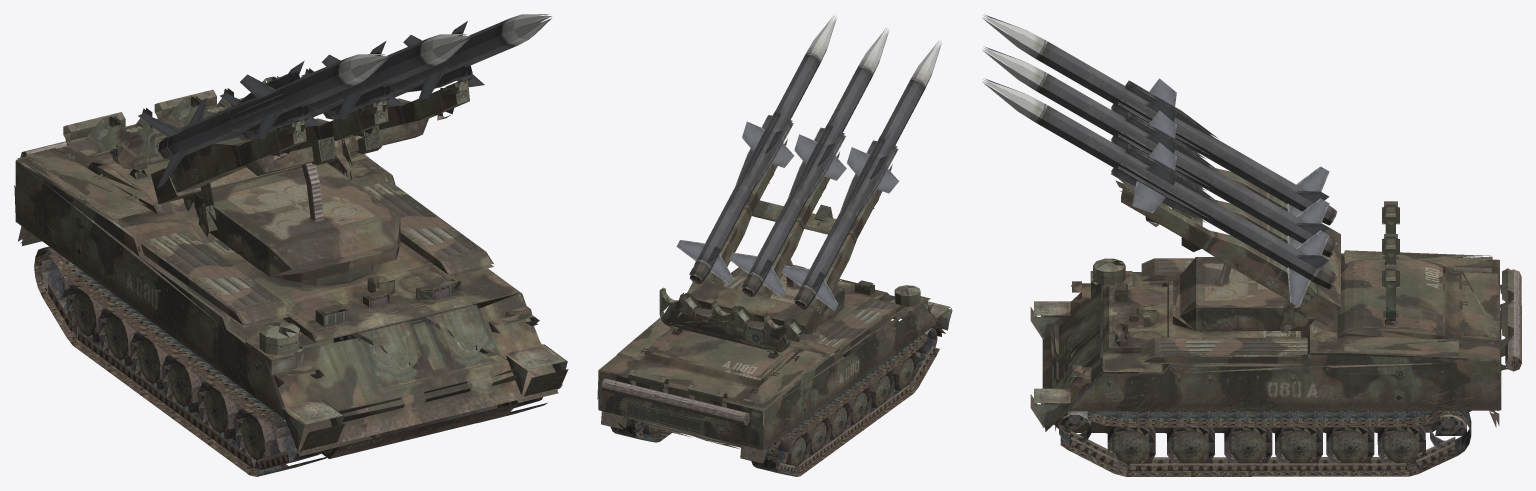
Rendered from missiletank_lod1_original.glb.
3 renders of one model, left to right at view 1: azimuth 30°, elevation 25°; view 2: azimuth 150°, elevation 25°; view 3: azimuth 270°, elevation 25°, orthographic. The views are drawn at different scales.
Parts seen in each view (by area): view 1: Tank_Tank_0.002, Tank_Wheel_0.002; view 2: Tank_Tank_0.002, Tank_Wheel_0.002; view 3: Tank_Tank_0.002, Tank_Wheel_0.002.
Boxes of the visible parts, bbox=[...] form: Tank_Tank_0.002: bbox=[14, 14, 568, 468]; Tank_Wheel_0.002: bbox=[34, 246, 547, 476]; Tank_Tank_0.002: bbox=[597, 15, 952, 471]; Tank_Wheel_0.002: bbox=[610, 326, 941, 476]; Tank_Tank_0.002: bbox=[982, 14, 1521, 470]; Tank_Wheel_0.002: bbox=[1055, 410, 1471, 476].
Size of the model in its own units: 94.2 by 155 by 200.
2 materials, 2 textured.
